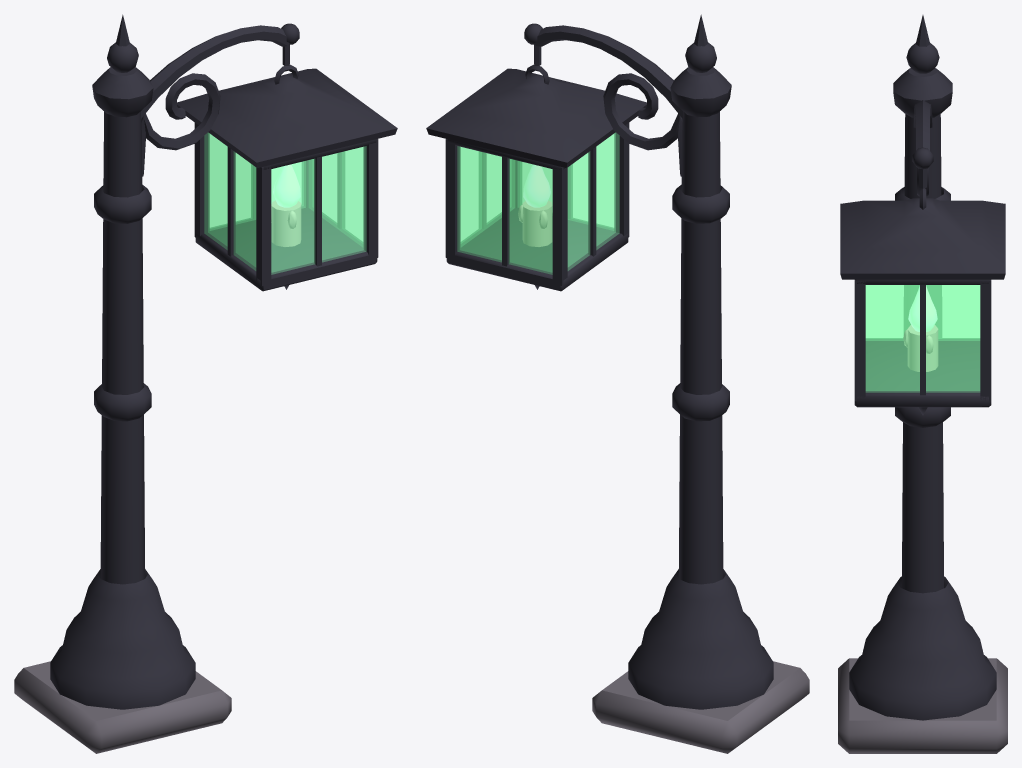
Rendered from lantern.glb.
The picture shows the model from 3 angles, left to right: view 1: azimuth 30°, elevation 25°; view 2: azimuth 150°, elevation 25°; view 3: azimuth 270°, elevation 25°; orthographic projection.
Visible parts, largest first — view 1: body, cage, flame; view 2: body, cage, flame; view 3: body, cage, flame.
Part boxes in pixels (box(x1,y1,x2,y2)): body: box(14, 14, 299, 753); cage: box(177, 64, 397, 291); flame: box(273, 164, 300, 207); body: box(524, 14, 809, 753); cage: box(426, 64, 646, 291); flame: box(523, 164, 550, 207); body: box(838, 15, 1007, 753); cage: box(840, 188, 1005, 415); flame: box(908, 286, 937, 331).
Size of the model in its own units: 0.9743 by 2.12 by 0.46.
